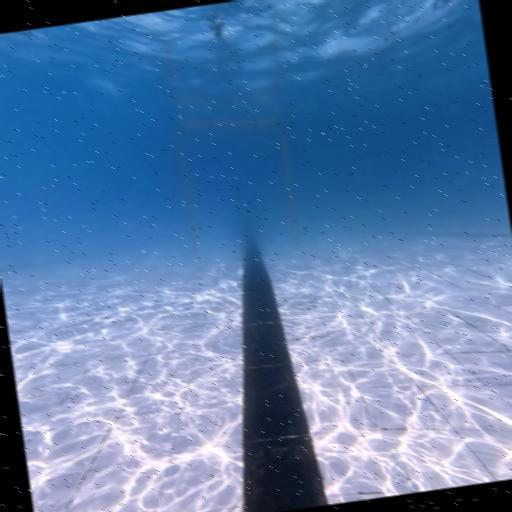gate: (174, 108, 300, 260)
